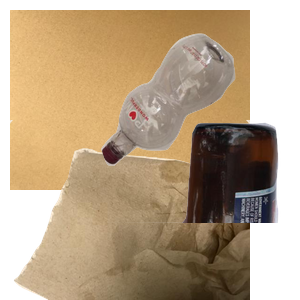cardboard: (10, 10, 250, 190)
glass: (87, 120, 300, 300)
plastic: (99, 31, 300, 189)
trash: (10, 120, 250, 300)
